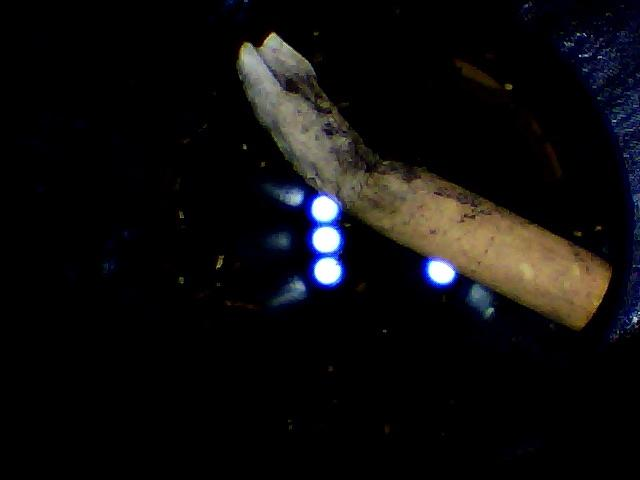megot: (226, 28, 621, 339)
